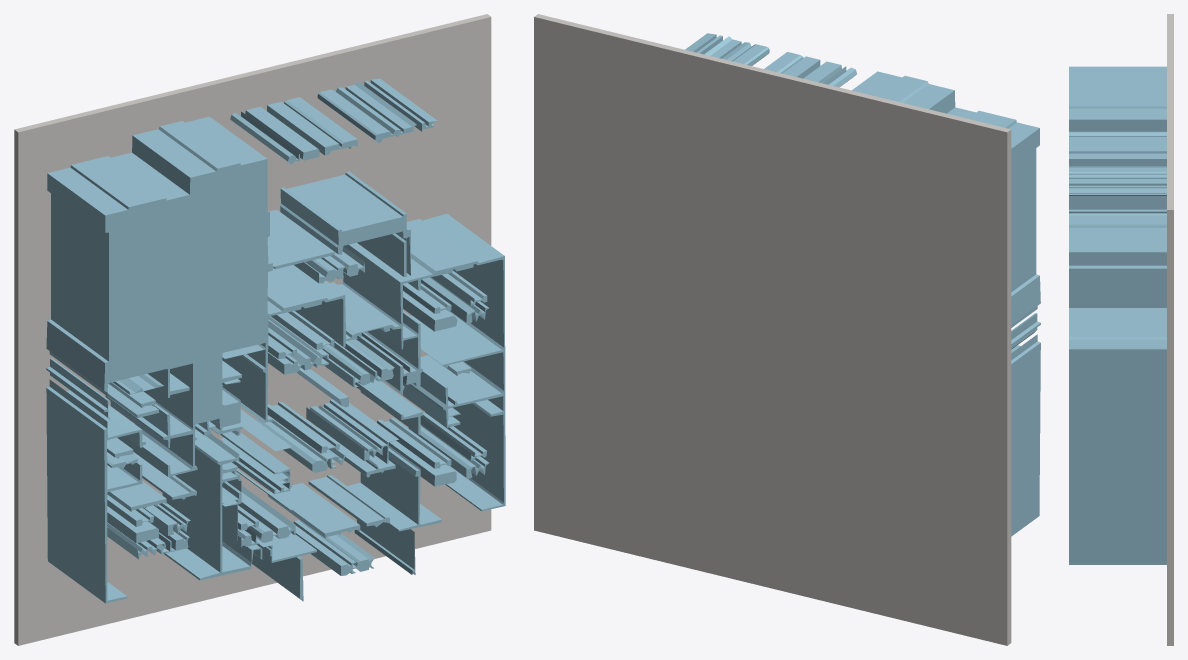
The picture shows the model from 3 angles, left to right: view 1: azimuth 30°, elevation 25°; view 2: azimuth 150°, elevation 25°; view 3: azimuth 270°, elevation 25°; orthographic projection. The views are drawn at different scales.
Visible parts, largest first — view 1: world; view 2: world; view 3: world.
Part boxes in pixels (bbox=[...]): world: bbox=[14, 14, 505, 645]; world: bbox=[534, 14, 1040, 645]; world: bbox=[1069, 14, 1173, 645].
Size of the model in its own units: 10.23 by 10.61 by 2.31.
